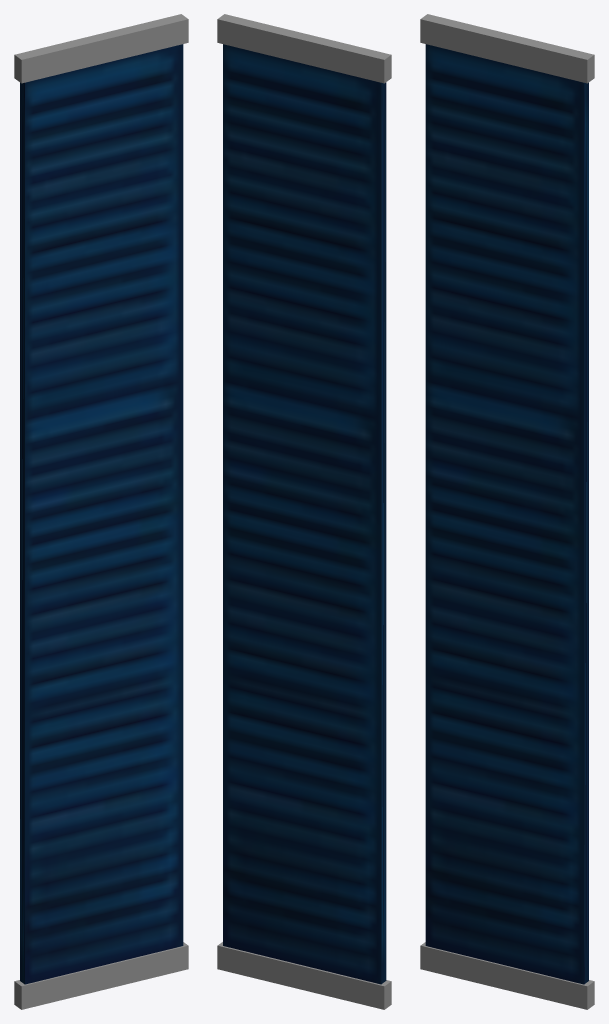
Rendered from BR_Glass_2.glb.
3 views of the same model, side by side, from view 1: azimuth 30°, elevation 25°; view 2: azimuth 150°, elevation 25°; view 3: azimuth 330°, elevation 25° (orthographic).
Visible parts, largest first — view 1: Glass 2, Glass metal; view 2: Glass 2, Glass metal; view 3: Glass 2, Glass metal.
Boxes of the visible parts, x1=… form: Glass 2: x1=20, y1=44, x2=183, y2=984; Glass metal: x1=14, y1=14, x2=188, y2=1009; Glass 2: x1=223, y1=44, x2=386, y2=984; Glass metal: x1=217, y1=14, x2=391, y2=1009; Glass 2: x1=425, y1=44, x2=588, y2=984; Glass metal: x1=420, y1=14, x2=594, y2=1009.
Bounding box in the file's own units: 0.5153 × 2.8 × 0.038.
2 materials, 1 textured.
